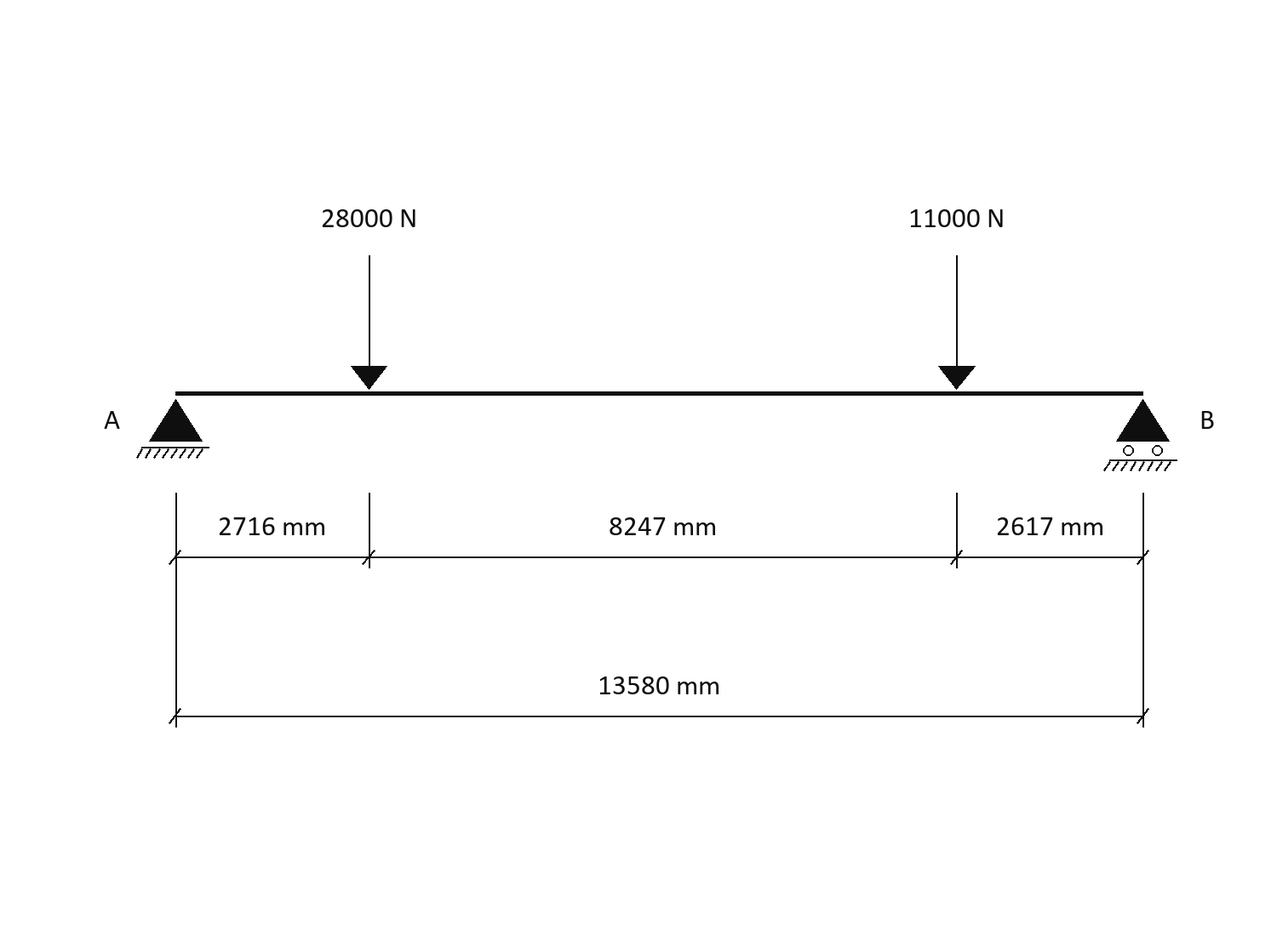pin_support: (136, 399, 209, 459)
point_load: (938, 255, 976, 390), (351, 255, 387, 390)
roller_support: (1103, 399, 1177, 471)
